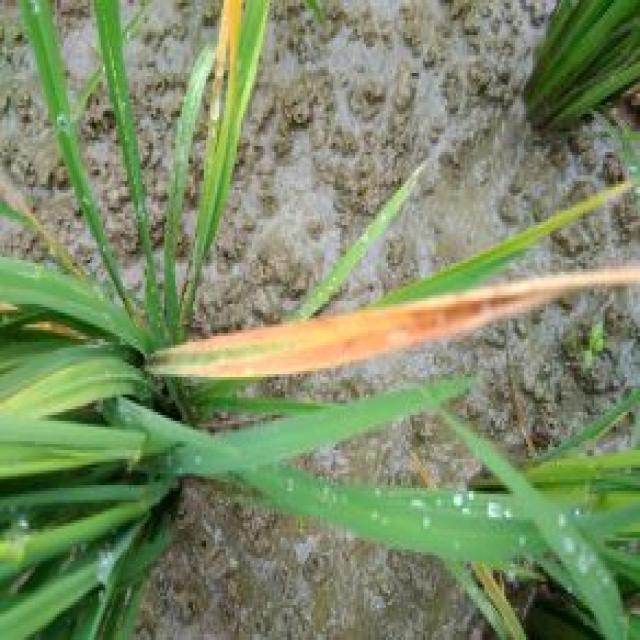Tungro: (150, 266, 640, 391), (197, 0, 254, 146), (558, 174, 640, 235)
